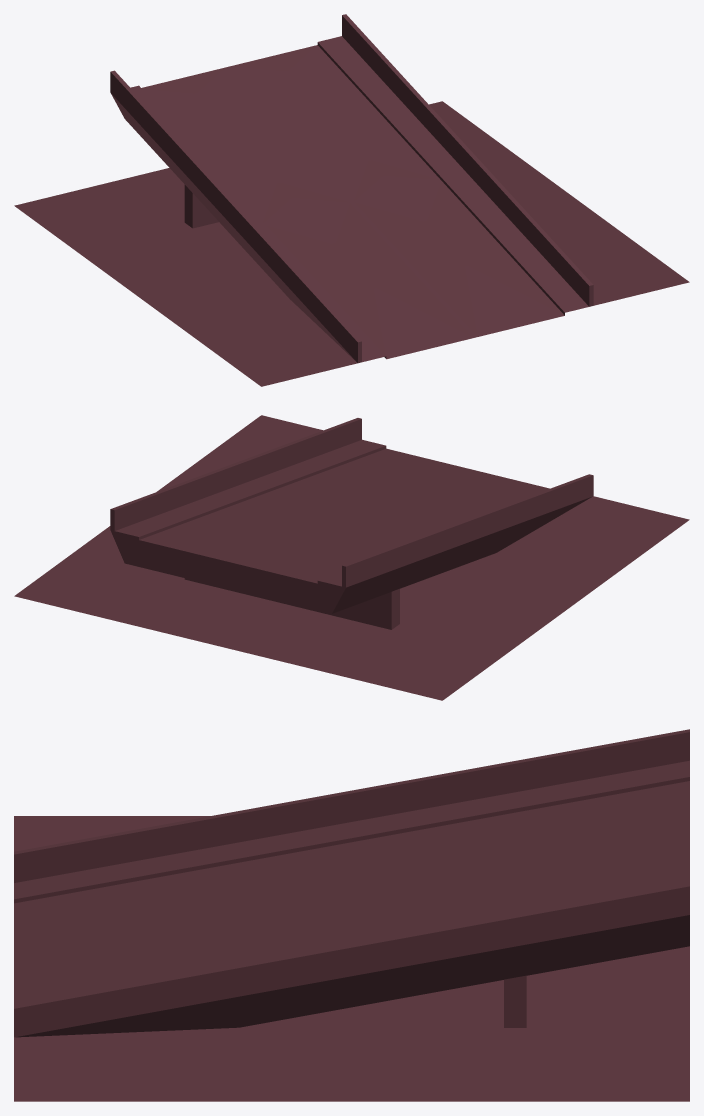
The model's file is tile-bridge-mainroad-hill-nb.fbx.
3 renders of one model, top to bottom at view 1: azimuth 30°, elevation 25°; view 2: azimuth 150°, elevation 25°; view 3: azimuth 270°, elevation 25°, orthographic. The views are drawn at different scales.
Visible parts, largest first — view 1: tile-bridge-mainroad-hill-nb; view 2: tile-bridge-mainroad-hill-nb; view 3: tile-bridge-mainroad-hill-nb.
Boxes of the visible parts, <box> form: tile-bridge-mainroad-hill-nb: <box>14,14,689,386</box>; tile-bridge-mainroad-hill-nb: <box>14,415,689,700</box>; tile-bridge-mainroad-hill-nb: <box>14,729,689,1101</box>.
Bounding box in the file's own units: 30 × 7.6 × 30.
